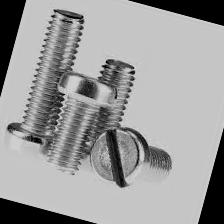screw: (84, 117, 156, 194)
